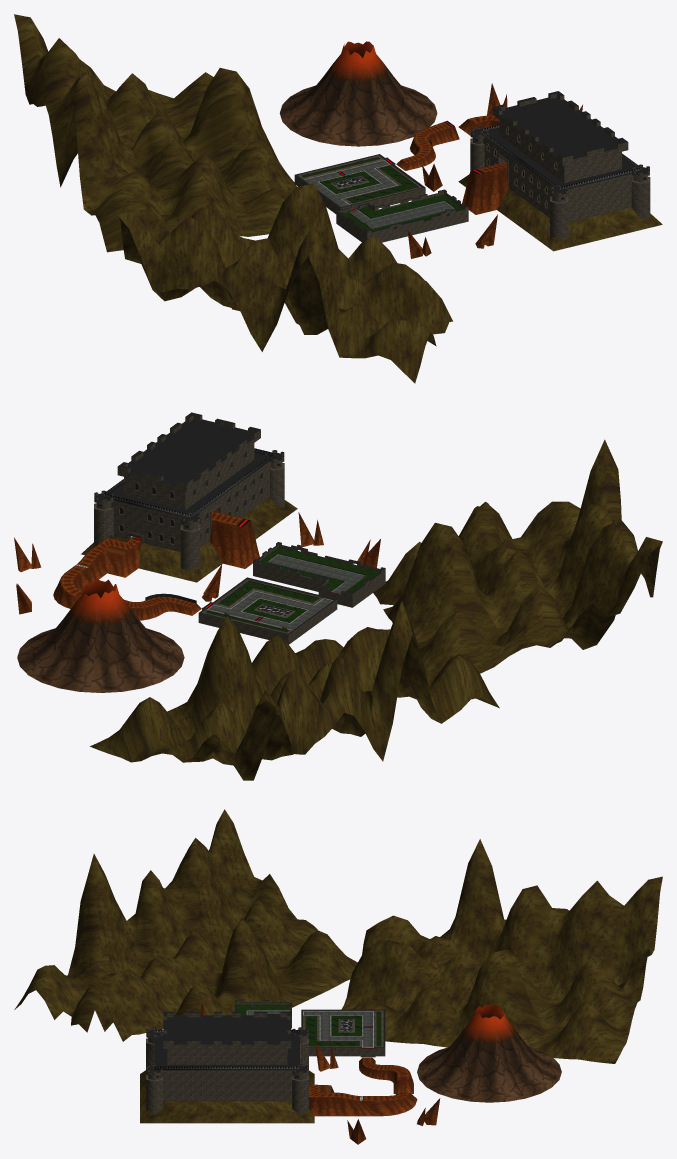
The picture shows the model from 3 angles, top to bottom: view 1: azimuth 30°, elevation 25°; view 2: azimuth 150°, elevation 25°; view 3: azimuth 270°, elevation 25°; orthographic projection. The views are drawn at different scales.
Visible parts, largest first — view 1: Lava_Prison-SKP--DarkRock.001, Lava_Prison-SKP--DarkBrick.001, Lava_Prison-SKP--Volcano.001, Lava_Prison-SKP--BlackMaterial.001, Lava_Prison-SKP--VolcanRock.001, Lava_Prison-SKP--DarkGrass.001, Lava_Prison-SKP--MossBrick.001, Lava_Prison-SKP--VolcanRoad.001, Lava_Prison-SKP--SpikeMix.001; view 2: Lava_Prison-SKP--DarkRock.001, Lava_Prison-SKP--DarkBrick.001, Lava_Prison-SKP--Volcano.001, Lava_Prison-SKP--BlackMaterial.001, Lava_Prison-SKP--VolcanRock.001, Lava_Prison-SKP--DarkGrass.001, Lava_Prison-SKP--MossBrick.001, Lava_Prison-SKP--VolcanRoad.001, Lava_Prison-SKP--SpikeMix.001, Lava_Prison-SKP--Parts1.001, Lava_Prison-SKP--Weeds.001; view 3: Lava_Prison-SKP--DarkRock.001, Lava_Prison-SKP--DarkBrick.001, Lava_Prison-SKP--Volcano.001, Lava_Prison-SKP--BlackMaterial.001, Lava_Prison-SKP--VolcanRock.001, Lava_Prison-SKP--DarkGrass.001, Lava_Prison-SKP--MossBrick.001, Lava_Prison-SKP--VolcanRoad.001, Lava_Prison-SKP--SpikeMix.001.
Boxes of the visible parts, x1=… form: Lava_Prison-SKP--DarkRock.001: x1=14, y1=14, x2=662, y2=383; Lava_Prison-SKP--DarkBrick.001: x1=294, y1=93, x2=650, y2=242; Lava_Prison-SKP--Volcano.001: x1=279, y1=41, x2=437, y2=146; Lava_Prison-SKP--BlackMaterial.001: x1=295, y1=91, x2=649, y2=232; Lava_Prison-SKP--VolcanRock.001: x1=396, y1=83, x2=582, y2=258; Lava_Prison-SKP--DarkGrass.001: x1=302, y1=157, x2=463, y2=231; Lava_Prison-SKP--MossBrick.001: x1=304, y1=160, x2=453, y2=228; Lava_Prison-SKP--VolcanRoad.001: x1=401, y1=115, x2=507, y2=172; Lava_Prison-SKP--SpikeMix.001: x1=480, y1=125, x2=641, y2=190; Lava_Prison-SKP--DarkRock.001: x1=81, y1=439, x2=662, y2=780; Lava_Prison-SKP--DarkBrick.001: x1=94, y1=415, x2=385, y2=644; Lava_Prison-SKP--Volcano.001: x1=17, y1=579, x2=184, y2=692; Lava_Prison-SKP--BlackMaterial.001: x1=94, y1=412, x2=385, y2=634; Lava_Prison-SKP--VolcanRock.001: x1=14, y1=512, x2=380, y2=620; Lava_Prison-SKP--DarkGrass.001: x1=206, y1=547, x2=379, y2=632; Lava_Prison-SKP--MossBrick.001: x1=209, y1=555, x2=363, y2=629; Lava_Prison-SKP--VolcanRoad.001: x1=60, y1=512, x2=243, y2=608; Lava_Prison-SKP--SpikeMix.001: x1=103, y1=448, x2=274, y2=538; Lava_Prison-SKP--Parts1.001: x1=207, y1=554, x2=364, y2=630; Lava_Prison-SKP--Weeds.001: x1=222, y1=553, x2=367, y2=621; Lava_Prison-SKP--DarkRock.001: x1=14, y1=809, x2=662, y2=1123; Lava_Prison-SKP--DarkBrick.001: x1=146, y1=1001, x2=385, y2=1115; Lava_Prison-SKP--Volcano.001: x1=417, y1=1004, x2=561, y2=1102; Lava_Prison-SKP--BlackMaterial.001: x1=146, y1=1000, x2=410, y2=1094; Lava_Prison-SKP--VolcanRock.001: x1=200, y1=1002, x2=440, y2=1144; Lava_Prison-SKP--DarkGrass.001: x1=236, y1=1004, x2=381, y2=1046; Lava_Prison-SKP--MossBrick.001: x1=247, y1=1010, x2=372, y2=1047; Lava_Prison-SKP--VolcanRoad.001: x1=309, y1=1057, x2=410, y2=1100; Lava_Prison-SKP--SpikeMix.001: x1=154, y1=1030, x2=299, y2=1070.
Size of what is drawn, in the model's own units: 1728 by 459 by 1962.
21 materials, 21 textured.
